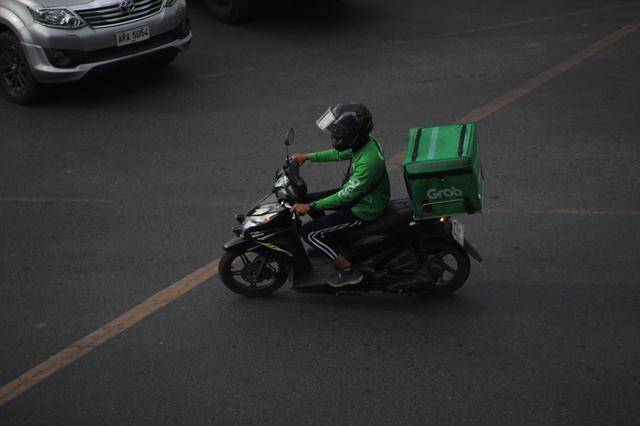helmet: (326, 102, 373, 155)
motorcycle: (219, 101, 483, 301)
